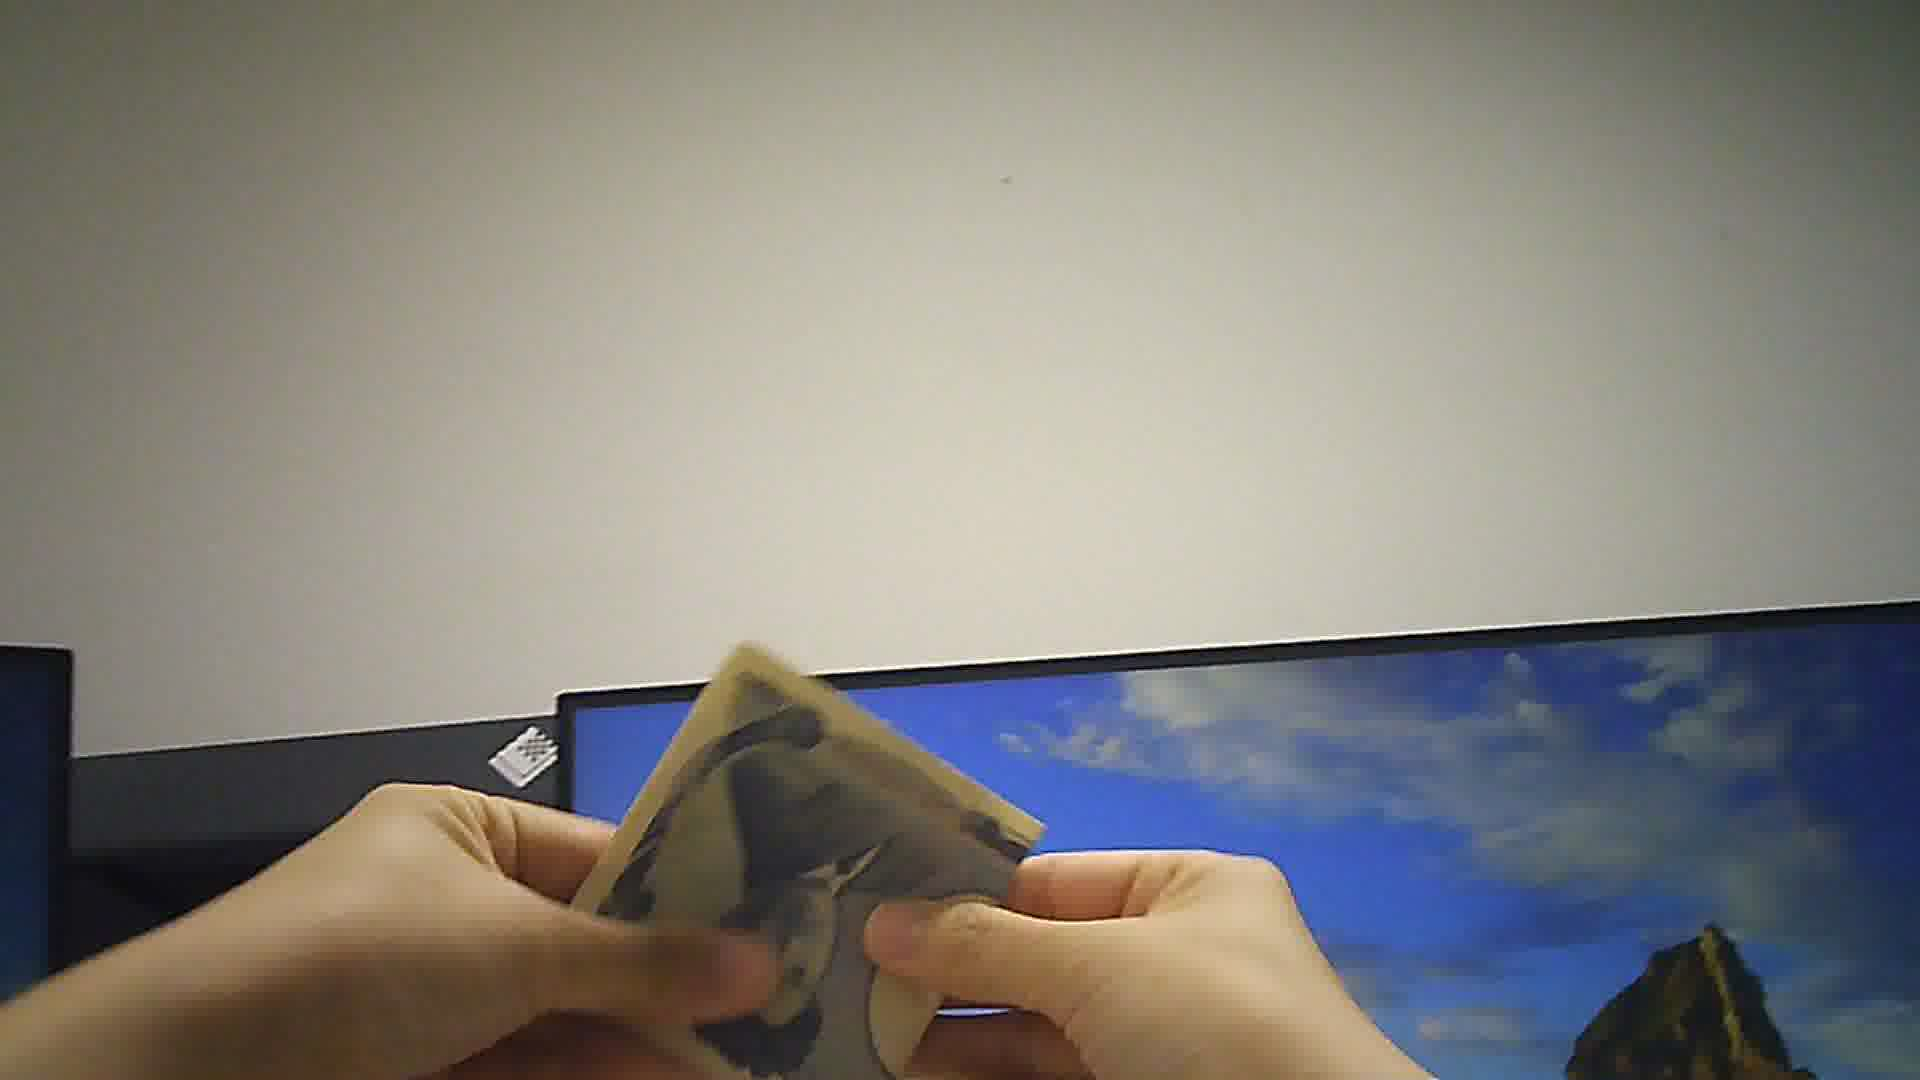1,000 Yen: (564, 655, 1025, 1079)
